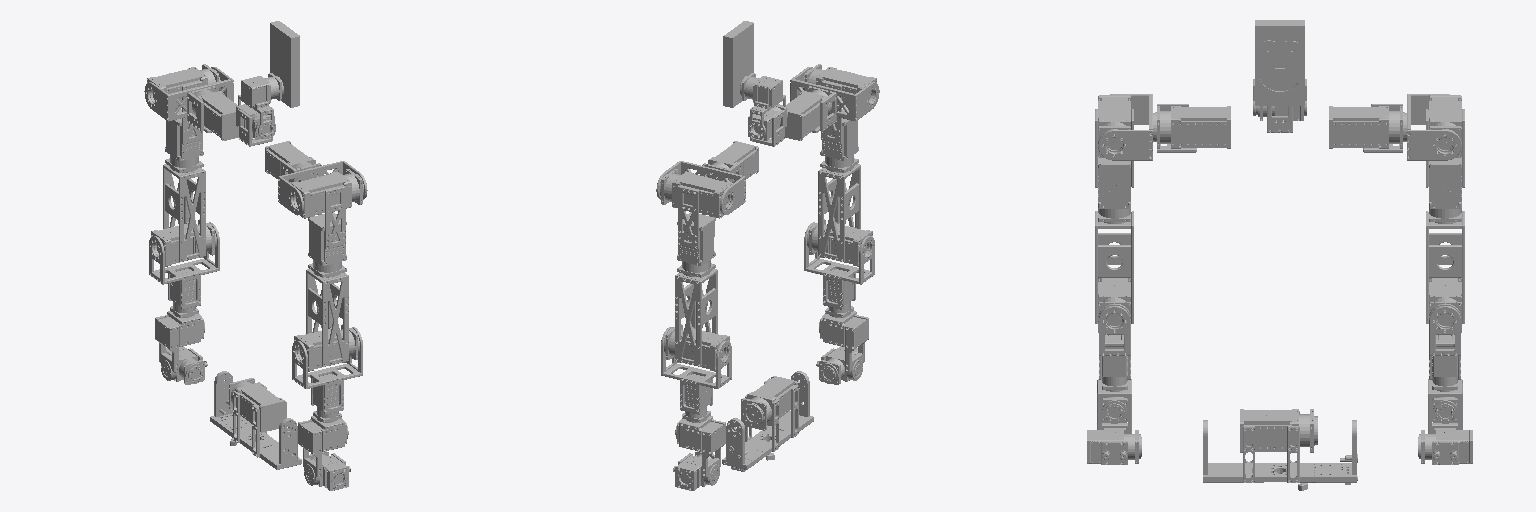
--- Facts derived from the render (not from the file) ---
Views: 3 orthographic renders of the robot side by side, from view 1: azimuth 30°, elevation 25°; view 2: azimuth 150°, elevation 25°; view 3: azimuth 270°, elevation 25°.
Model AVATAR_URDF_Test3 with 22 links and 21 joints (21 revolute), rooted at Base, posed every joint at zero.
Links seen in each view (by area): view 1: Waist_Bottom, R_Shoulder3, R_Upperarm, L_Upperarm, L_Shoulder3, L_Forearm, R_Forearm, L_Shoulder1, Head, L_Wrist1, R_Wrist1, Neck2 (+6 smaller); view 2: Waist_Bottom, L_Shoulder3, L_Upperarm, R_Upperarm, R_Shoulder3, R_Forearm, L_Forearm, Head, R_Shoulder1, R_Wrist1, L_Wrist1, Neck2 (+6 smaller); view 3: Waist_Bottom, Head, R_Shoulder3, L_Shoulder3, R_Upperarm, L_Upperarm, R_Shoulder1, L_Shoulder1, R_Forearm, L_Forearm, R_Shoulder2, L_Shoulder2 (+5 smaller).
Boxes of the visible links, left/top/right/bottom form: Waist_Bottom: left=210, top=371, right=301, bottom=469; R_Shoulder3: left=291, top=169, right=363, bottom=277; R_Upperarm: left=294, top=269, right=359, bottom=371; L_Upperarm: left=151, top=164, right=216, bottom=266; L_Shoulder3: left=147, top=64, right=220, bottom=172; L_Forearm: left=149, top=222, right=219, bottom=317; R_Forearm: left=292, top=327, right=362, bottom=422; L_Shoulder1: left=187, top=86, right=238, bottom=140; Head: left=270, top=21, right=299, bottom=107; L_Wrist1: left=155, top=311, right=204, bottom=380; R_Wrist1: left=298, top=416, right=348, bottom=485; Neck2: left=238, top=73, right=283, bottom=138; Waist_Bottom: left=722, top=371, right=813, bottom=471; L_Shoulder3: left=660, top=169, right=732, bottom=277; L_Upperarm: left=664, top=269, right=729, bottom=371; R_Upperarm: left=807, top=164, right=872, bottom=266; R_Shoulder3: left=803, top=64, right=876, bottom=172; R_Forearm: left=804, top=222, right=874, bottom=317; L_Forearm: left=661, top=327, right=731, bottom=422; Head: left=723, top=21, right=753, bottom=107; R_Shoulder1: left=785, top=86, right=836, bottom=140; R_Wrist1: left=819, top=311, right=868, bottom=380; L_Wrist1: left=675, top=416, right=725, bottom=485; Neck2: left=740, top=73, right=787, bottom=138; Waist_Bottom: left=1203, top=409, right=1357, bottom=490; Head: left=1255, top=20, right=1304, bottom=105; R_Shoulder3: left=1095, top=95, right=1133, bottom=223; L_Shoulder3: left=1426, top=95, right=1464, bottom=223; R_Upperarm: left=1095, top=211, right=1133, bottom=332; L_Upperarm: left=1426, top=211, right=1464, bottom=332; R_Shoulder1: left=1153, top=104, right=1230, bottom=152; L_Shoulder1: left=1329, top=104, right=1406, bottom=152; R_Forearm: left=1099, top=306, right=1130, bottom=391; L_Forearm: left=1429, top=306, right=1460, bottom=391; R_Shoulder2: left=1098, top=94, right=1152, bottom=160; L_Shoulder2: left=1407, top=94, right=1461, bottom=160.
Bounding box of the posed robot: 0.144 × 0.6257 × 0.8506 m (x, y, z).
18 mesh visuals loaded from 22 distinct referenced files (18 binary STL); not drawn: 4 (file found but could not be loaded).

URDF robot description (AVATAR_URDF_Test3):
<?xml version="1.0" encoding="utf-8"?>
<!-- This URDF was automatically created by SolidWorks to URDF Exporter! Originally created by Stephen Brawner ([email redacted]) 
     Commit Version: 1.6.0-4-g7f85cfe  Build Version: 1.6.7995.38578
     For more information, please see http://wiki.ros.org/sw_urdf_exporter -->
<robot
  name="AVATAR_URDF_Test3">
  <link
    name="Base">
    <inertial>
      <origin
        xyz="0.000303243326167879 -0.000242347714140528 0.170803737218352"
        rpy="0 0 0" />
      <mass
        value="4.6034714284956" />
      <inertia
        ixx="0.0290033647219628"
        ixy="1.64284188590394E-07"
        ixz="2.18867887595009E-09"
        iyy="0.0311320594248545"
        iyz="7.20585335229902E-08"
        izz="0.00547620405416547" />
    </inertial>
    <visual>
      <origin
        xyz="0 0 0"
        rpy="0 0 0" />
      <geometry>
        <mesh
          filename="package://dynamixel_control/urdf/meshes/Base.stl" />
      </geometry>
      <material
        name="">
        <color
          rgba="0.752941176470588 0.752941176470588 0.752941176470588 1" />
      </material>
    </visual>
    <collision>
      <origin
        xyz="0 0 0"
        rpy="0 0 0" />
      <geometry>
        <mesh
          filename="package://dynamixel_control/urdf/meshes/Base.stl" />
      </geometry>
    </collision>
  </link>
  <link
    name="Waist_Bottom">
    <inertial>
      <origin
        xyz="-2.42245167183242E-05 -0.00334522502278586 0.311976626423601"
        rpy="0 0 0" />
      <mass
        value="0.531312548786671" />
      <inertia
        ixx="0.00119335950860488"
        ixy="1.58093822860754E-06"
        ixz="8.85274488170103E-09"
        iyy="0.000231775631538982"
        iyz="-1.61190294553858E-07"
        izz="0.00118158666774528" />
    </inertial>
    <visual>
      <origin
        xyz="0 0 0"
        rpy="0 0 0" />
      <geometry>
        <mesh
          filename="package://dynamixel_control/urdf/meshes/Waist_Bottom.stl" />
      </geometry>
      <material
        name="">
        <color
          rgba="0.752941176470588 0.752941176470588 0.752941176470588 1" />
      </material>
    </visual>
    <collision>
      <origin
        xyz="0 0 0"
        rpy="0 0 0" />
      <geometry>
        <mesh
          filename="package://dynamixel_control/urdf/meshes/Waist_Bottom.stl" />
      </geometry>
    </collision>
  </link>
  <joint
    name="joint21"
    type="revolute">
    <origin
      xyz="0 0 0.084"
      rpy="0 0 0" />
    <parent
      link="Base" />
    <child
      link="Waist_Bottom" />
    <axis
      xyz="0 0 1" />
    <limit
      lower="-3.14"
      upper="3.14"
      effort="0"
      velocity="0" />
  </joint>
  <link
    name="Waist_Top">
    <inertial>
      <origin
        xyz="0.00230333871667876 0.0221572223284396 0.198845059858091"
        rpy="0 0 0" />
      <mass
        value="4.3469015612453" />
      <inertia
        ixx="0.0314705322393854"
        ixy="-9.24811297745712E-09"
        ixz="1.19346285971661E-07"
        iyy="0.0174127352748354"
        iyz="-1.32200547208725E-05"
        izz="0.0180955754507868" />
    </inertial>
    <visual>
      <origin
        xyz="0 0 0"
        rpy="0 0 0" />
      <geometry>
        <mesh
          filename="package://dynamixel_control/urdf/meshes/Waist_Top.stl" />
      </geometry>
      <material
        name="">
        <color
          rgba="0.752941176470588 0.752941176470588 0.752941176470588 1" />
      </material>
    </visual>
    <collision>
      <origin
        xyz="0 0 0"
        rpy="0 0 0" />
      <geometry>
        <mesh
          filename="package://dynamixel_control/urdf/meshes/Waist_Top.stl" />
      </geometry>
    </collision>
  </link>
  <joint
    name="joint20"
    type="revolute">
    <origin
      xyz="0 0 0.334"
      rpy="0 0 0" />
    <parent
      link="Waist_Bottom" />
    <child
      link="Waist_Top" />
    <axis
      xyz="0 1 0" />
    <limit
      lower="-3.14"
      upper="3.14"
      effort="0"
      velocity="0" />
  </joint>
  <link
    name="Neck1">
    <inertial>
      <origin
        xyz="-2.30302027032225E-08 0.00281444186931717 0.0317914438373298"
        rpy="0 0 0" />
      <mass
        value="0.206569749668231" />
      <inertia
        ixx="9.50254900314168E-05"
        ixy="1.34717106493204E-11"
        ixz="3.87620840061872E-13"
        iyy="5.8528856103503E-05"
        iyz="2.59110871376959E-08"
        izz="8.23348577959084E-05" />
    </inertial>
    <visual>
      <origin
        xyz="0 0 0"
        rpy="0 0 0" />
      <geometry>
        <mesh
          filename="package://dynamixel_control/urdf/meshes/Neck1.stl" />
      </geometry>
      <material
        name="">
        <color
          rgba="0.752941176470588 0.752941176470588 0.752941176470588 1" />
      </material>
    </visual>
    <collision>
      <origin
        xyz="0 0 0"
        rpy="0 0 0" />
      <geometry>
        <mesh
          filename="package://dynamixel_control/urdf/meshes/Neck1.stl" />
      </geometry>
    </collision>
  </link>
  <joint
    name="joint17"
    type="revolute">
    <origin
      xyz="0 0.00014877 0.545"
      rpy="0 0 0" />
    <parent
      link="Waist_Top" />
    <child
      link="Neck1" />
    <axis
      xyz="0 0 1" />
    <limit
      lower="-3.14"
      upper="3.14"
      effort="0"
      velocity="0" />
  </joint>
  <link
    name="Neck2">
    <inertial>
      <origin
        xyz="0.00854491891680327 -2.3637120039055E-11 0.0492566356192752"
        rpy="0 0 0" />
      <mass
        value="0.16912696282762" />
      <inertia
        ixx="5.39909683894887E-05"
        ixy="6.5501864447379E-15"
        ixz="-2.59110802879995E-08"
        iyy="7.47516175505277E-05"
        iyz="3.55325838391412E-13"
        izz="8.22454172445823E-05" />
    </inertial>
    <visual>
      <origin
        xyz="0 0 0"
        rpy="0 0 0" />
      <geometry>
        <mesh
          filename="package://dynamixel_control/urdf/meshes/Neck2.stl" />
      </geometry>
      <material
        name="">
        <color
          rgba="0.752941176470588 0.752941176470588 0.752941176470588 1" />
      </material>
    </visual>
    <collision>
      <origin
        xyz="0 0 0"
        rpy="0 0 0" />
      <geometry>
        <mesh
          filename="package://dynamixel_control/urdf/meshes/Neck2.stl" />
      </geometry>
    </collision>
  </link>
  <joint
    name="joint18"
    type="revolute">
    <origin
      xyz="0 0 0.0385"
      rpy="0 0 0" />
    <parent
      link="Neck1" />
    <child
      link="Neck2" />
    <axis
      xyz="0 -1 0" />
    <limit
      lower="-3.14"
      upper="3.14"
      effort="0"
      velocity="0" />
  </joint>
  <link
    name="Head">
    <inertial>
      <origin
        xyz="0.011868632180432 -1.73841443054656E-06 0.0420062370189285"
        rpy="0 0 0" />
      <mass
        value="0.228692319590113" />
      <inertia
        ixx="0.000519416418262081"
        ixy="3.6302851140037E-09"
        ixz="-3.88931145120359E-07"
        iyy="0.000404644663196271"
        iyz="1.74154474795361E-08"
        izz="0.00012987386650223" />
    </inertial>
    <visual>
      <origin
        xyz="0 0 0"
        rpy="0 0 0" />
      <geometry>
        <mesh
          filename="package://dynamixel_control/urdf/meshes/Head.stl" />
      </geometry>
      <material
        name="">
        <color
          rgba="0.752941176470588 0.752941176470588 0.752941176470588 1" />
      </material>
    </visual>
    <collision>
      <origin
        xyz="0 0 0"
        rpy="0 0 0" />
      <geometry>
        <mesh
          filename="package://dynamixel_control/urdf/meshes/Head.stl" />
      </geometry>
    </collision>
  </link>
  <joint
    name="joint19"
    type="revolute">
    <origin
      xyz="0.051 0 0.061"
      rpy="0 0 0" />
    <parent
      link="Neck2" />
    <child
      link="Head" />
    <axis
      xyz="1 0 0" />
    <limit
      lower="-3.14"
      upper="3.14"
      effort="0"
      velocity="0" />
  </joint>
  <link
    name="R_Shoulder1">
    <inertial>
      <origin
        xyz="-0.00252075965447164 0.0121593639745771 0.0296786139966227"
        rpy="0 0 0" />
      <mass
        value="0.410805392974447" />
      <inertia
        ixx="0.000530690638124942"
        ixy="7.61706374690236E-08"
        ixz="1.76993271148482E-08"
        iyy="0.000173389320055398"
        iyz="-2.0508354153909E-07"
        izz="0.000530075178211183" />
    </inertial>
    <visual>
      <origin
        xyz="0 0 0"
        rpy="0 0 0" />
      <geometry>
        <mesh
          filename="package://dynamixel_control/urdf/meshes/R_Shoulder1.stl" />
      </geometry>
      <material
        name="">
        <color
          rgba="0.752941176470588 0.752941176470588 0.752941176470588 1" />
      </material>
    </visual>
    <collision>
      <origin
        xyz="0 0 0"
        rpy="0 0 0" />
      <geometry>
        <mesh
          filename="package://dynamixel_control/urdf/meshes/R_Shoulder1.stl" />
      </geometry>
    </collision>
  </link>
  <joint
    name="joint1"
    type="revolute">
    <origin
      xyz="0 -0.15785 0.51"
      rpy="0 0 0" />
    <parent
      link="Waist_Top" />
    <child
      link="R_Shoulder1" />
    <axis
      xyz="0 0 1" />
    <limit
      lower="-3.14"
      upper="3.14"
      effort="0"
      velocity="0" />
  </joint>
  <link
    name="R_Shoulder2">
    <inertial>
      <origin
        xyz="-6.10622663543836E-16 -0.0222059958829576 2.77555756156289E-17"
        rpy="0 0 0" />
      <mass
        value="0.182373702997158" />
      <inertia
        ixx="0.000109130549741493"
        ixy="-4.63541160383502E-21"
        ixz="2.30846585098975E-10"
        iyy="0.000178289560188981"
        iyz="-1.85867664463217E-20"
        izz="0.00018625573726423" />
    </inertial>
    <visual>
      <origin
        xyz="0 0 0"
        rpy="0 0 0" />
      <geometry>
        <mesh
          filename="package://dynamixel_control/urdf/meshes/R_Shoulder2.stl" />
      </geometry>
      <material
        name="">
        <color
          rgba="0.752941176470588 0.752941176470588 0.752941176470588 1" />
      </material>
    </visual>
    <collision>
      <origin
        xyz="0 0 0"
        rpy="0 0 0" />
      <geometry>
        <mesh
          filename="package://dynamixel_control/urdf/meshes/R_Shoulder2.stl" />
      </geometry>
    </collision>
  </link>
  <joint
    name="joint2"
    type="revolute">
    <origin
      xyz="0 -0.047995 0.033"
      rpy="0 0 0" />
    <parent
      link="R_Shoulder1" />
    <child
      link="R_Shoulder2" />
    <axis
      xyz="0 -1 0" />
    <limit
      lower="-3.14"
      upper="3.14"
      effort="0"
      velocity="0" />
  </joint>
  <link
    name="R_Shoulder3">
    <inertial>
      <origin
        xyz="-0.000803688860219268 4.46847804119743E-06 -0.0470056363073573"
        rpy="0 0 0" />
      <mass
        value="0.731280740842248" />
      <inertia
        ixx="0.000603982320899008"
        ixy="5.20431167910932E-09"
        ixz="-3.18492330639882E-07"
        iyy="0.000965249594039117"
        iyz="4.59547965705601E-09"
        izz="0.000640174610782945" />
    </inertial>
    <visual>
      <origin
        xyz="0 0 0"
        rpy="0 0 0" />
      <geometry>
        <mesh
          filename="package://dynamixel_control/urdf/meshes/R_Shoulder3.stl" />
      </geometry>
      <material
        name="">
        <color
          rgba="0.752941176470588 0.752941176470588 0.752941176470588 1" />
      </material>
    </visual>
    <collision>
      <origin
        xyz="0 0 0"
        rpy="0 0 0" />
      <geometry>
        <mesh
          filename="package://dynamixel_control/urdf/meshes/R_Shoulder3.stl" />
      </geometry>
    </collision>
  </link>
  <joint
    name="joint3"
    type="revolute">
    <origin
      xyz="0 -0.062005 0"
      rpy="0 0 0" />
    <parent
      link="R_Shoulder2" />
    <child
      link="R_Shoulder3" />
    <axis
      xyz="-1 0 0" />
    <limit
      lower="-3.14"
      upper="3.14"
      effort="0"
      velocity="0" />
  </joint>
  <link
    name="R_Upperarm">
    <inertial>
      <origin
        xyz="-2.54857385195706E-11 -0.000679843103449984 -0.113884552409043"
        rpy="0 0 0" />
      <mass
        value="0.580136792741574" />
      <inertia
        ixx="0.000889538746951816"
        ixy="-6.21276551871808E-12"
        ixz="3.84754853200853E-13"
        iyy="0.000655419499386114"
        iyz="-4.8641178942802E-08"
        izz="0.000431186138600684" />
    </inertial>
    <visual>
      <origin
        xyz="0 0 0"
        rpy="0 0 0" />
      <geometry>
        <mesh
          filename="package://dynamixel_control/urdf/meshes/R_Upperarm.stl" />
      </geometry>
      <material
        name="">
        <color
          rgba="0.752941176470588 0.752941176470588 0.752941176470588 1" />
      </material>
    </visual>
    <collision>
      <origin
        xyz="0 0 0"
        rpy="0 0 0" />
      <geometry>
        <mesh
          filename="package://dynamixel_control/urdf/meshes/R_Upperarm.stl" />
      </geometry>
    </collision>
  </link>
  <joint
    name="joint4"
    type="revolute">
    <origin
      xyz="0 0 -0.163"
      rpy="0 0 1.57" />
    <parent
      link="R_Shoulder3" />
    <child
      link="R_Upperarm" />
    <axis
      xyz="0 0 -1" />
    <limit
      lower="-3.14"
      upper="3.14"
      effort="0"
      velocity="0" />
  </joint>
  <link
    name="R_Forearm">
    <inertial>
      <origin
        xyz="2.37730210517206E-10 -8.45642979990791E-06 -0.0868969688774723"
        rpy="0 0 0" />
      <mass
        value="0.523376663655262" />
      <inertia
        ixx="0.000391242591357743"
        ixy="6.23870499052244E-12"
        ixz="9.41918960385042E-13"
        iyy="0.000350534331969182"
        iyz="5.8072695135785E-08"
        izz="0.000208506912802897" />
    </inertial>
    <visual>
      <origin
        xyz="0 0 0"
        rpy="0 0 0" />
      <geometry>
        <mesh
          filename="package://dynamixel_control/urdf/meshes/R_Forearm.stl" />
      </geometry>
      <material
        name="">
        <color
          rgba="0.752941176470588 0.752941176470588 0.752941176470588 1" />
      </material>
    </visual>
    <collision>
      <origin
        xyz="0 0 0"
        rpy="0 0 0" />
      <geometry>
        <mesh
          filename="package://dynamixel_control/urdf/meshes/R_Forearm.stl" />
      </geometry>
    </collision>
  </link>
  <joint
    name="joint5"
    type="revolute">
    <origin
      xyz="0 0 -0.155"
      rpy="0 0 0" />
    <parent
      link="R_Upperarm" />
    <child
      link="R_Forearm" />
    <axis
      xyz="0 -1 0" />
    <limit
      lower="-3.14"
      upper="3.14"
      effort="0"
      velocity="0" />
  </joint>
  <link
    name="R_Wrist1">
    <inertial>
      <origin
        xyz="1.345126912633E-09 0.01122592939157 -0.03307940040027"
        rpy="0 0 0" />
      <mass
        value="0.555405184095184" />
      <inertia
        ixx="0.000326336042461568"
        ixy="7.91127751655736E-13"
        ixz="-3.43756291852213E-12"
        iyy="0.000163409853946009"
        iyz="-2.02057400386373E-06"
        izz="0.000281591850327162" />
    </inertial>
    <visual>
      <origin
        xyz="0 0 0"
        rpy="0 0 0" />
      <geometry>
        <mesh
          filename="package://dynamixel_control/urdf/meshes/R_Wrist1.stl" />
      </geometry>
      <material
        name="">
        <color
          rgba="0.752941176470588 0.752941176470588 0.752941176470588 1" />
      </material>
    </visual>
    <collision>
      <origin
        xyz="0 0 0"
        rpy="0 0 0" />
      <geometry>
        <mesh
          filename="package://dynamixel_control/urdf/meshes/R_Wrist1.stl" />
      </geometry>
    </collision>
  </link>
  <joint
    name="joint6"
    type="revolute">
    <origin
      xyz="0 0 -0.148"
      rpy="0 0 0" />
    <parent
      link="R_Forearm" />
    <child
      link="R_Wrist1" />
    <axis
      xyz="0 0 -1" />
    <limit
      lower="-3.14"
      upper="3.14"
      effort="0"
      velocity="0" />
  </joint>
  <link
    name="R_Wrist2">
    <inertial>
      <origin
        xyz="-0.00119322980257797 0.000860937985712074 -9.48286903401652E-06"
        rpy="0 0 0" />
      <mass
        value="0.466729684502222" />
      <inertia
        ixx="0.000113472843914248"
        ixy="1.3962784021659E-11"
        ixz="-5.72958849987533E-08"
        iyy="0.000270164186143069"
        iyz="-1.9742367504101E-13"
        izz="0.000261912601367446" />
    </inertial>
    <visual>
      <origin
        xyz="0 0 0"
        rpy="0 0 0" />
      <geometry>
        <mesh
          filename="package://dynamixel_control/urdf/meshes/R_Wrist2.stl" />
      </geometry>
      <material
        name="">
        <color
          rgba="0.752941176470588 0.752941176470588 0.752941176470588 1" />
      </material>
    </visual>
    <collision>
      <origin
        xyz="0 0 0"
        rpy="0 0 0" />
      <geometry>
        <mesh
          filename="package://dynamixel_control/urdf/meshes/R_Wrist2.stl" />
      </geometry>
    </collision>
  </link>
  <joint
    name="joint7"
    type="revolute">
    <origin
      xyz="0 0 -0.1055"
      rpy="0 0 0" />
    <parent
      link="R_Wrist1" />
    <child
      link="R_Wrist2" />
    <axis
      xyz="0 -1 0" />
    <limit
      lower="-3.14"
      upper="3.14"
      effort="0"
      velocity="0" />
  </joint>
  <link
    name="R_Wrist3">
    <inertial>
      <origin
        xyz="0.00150904925021786 0.00343555190006029 -0.106634948939387"
        rpy="0 0 0" />
      <mass
        value="0.408588774804358" />
      <inertia
        ixx="0.00055571358233878"
        ixy="-4.05452481802536E-05"
        ixz="-6.40728794136174E-06"
        iyy="0.00061200625448681"
        iyz="-1.81696539432522E-06"
        izz="0.00030061553786221" />
    </inertial>
    <visual>
      <origin
        xyz="0 0 0"
        rpy="0 0 0" />
      <geometry>
        <mesh
          filename="package://dynamixel_control/urdf/meshes/R_Wrist3.stl" />
      </geometry>
      <material
        name="">
        <color
          rgba="0.752941176470588 0.752941176470588 0.752941176470588 1" />
      </material>
    </visual>
    <collision>
      <origin
        xyz="0 0 0"
        rpy="0 0 0" />
      <geometry>
        <mesh
          filename="package://dynamixel_control/urdf/meshes/R_Wrist3.stl" />
      </geometry>
    </collision>
  </link>
  <joint
    name="joint8"
    type="revolute">
    <origin
      xyz="0 0 0"
      rpy="0 0 0" />
    <parent
      link="R_Wrist2" />
    <child
      link="R_Wrist3" />
    <axis
      xyz="-1 0 0" />
    <limit
      lower="-3.14"
      upper="3.14"
      effort="0"
      velocity="0" />
  </joint>
  <link
    name="L_Shoulder1">
    <inertial>
      <origin
        xyz="-0.00252075965447164 -0.0121593639745771 0.0296786139966227"
        rpy="0 0 0" />
      <mass
        value="0.410805392974447" />
      <inertia
        ixx="0.000530690638124942"
        ixy="7.61706374690236E-08"
        ixz="1.76993271148482E-08"
        iyy="0.000173389320055398"
        iyz="-2.0508354153909E-07"
        izz="0.000530075178211183" />
    </inertial>
    <visual>
      <origin
        xyz="0 0 0"
        rpy="0 0 0" />
      <geometry>
        <mesh
          filename="package://dynamixel_control/urdf/meshes/L_Shoulder1.stl" />
      </geometry>
      <material
        name="">
        <color
          rgba="0.752941176470588 0.752941176470588 0.752941176470588 1" />
      </material>
    </visual>
    <collision>
      <origin
        xyz="0 0 0"
        rpy="0 0 0" />
      <geometry>
        <mesh
          filename="package://dynamixel_control/urdf/meshes/L_Shoulder1.stl" />
      </geometry>
    </collision>
  </link>
  <joint
    name="joint9"
    type="revolute">
    <origin
      xyz="0 0.15785 0.51"
      rpy="0 0 0" />
    <parent
      link="Waist_Top" />
    <child
      link="L_Shoulder1" />
    <axis
      xyz="0 0 1" />
    <limit
      lower="-3.14"
      upper="3.14"
      effort="0"
      velocity="0" />
  </joint>
  <link
    name="L_Shoulder2">
    <inertial>
      <origin
        xyz="-6.10622663543836E-16 0.0222059958829576 2.77555756156289E-17"
        rpy="0 0 0" />
      <mass
        value="0.182373702997158" />
      <inertia
        ixx="0.000109130549741493"
        ixy="-4.63541160383502E-21"
        ixz="2.30846585098975E-10"
        iyy="0.000178289560188981"
        iyz="-1.85867664463217E-20"
        izz="0.00018625573726423" />
    </inertial>
    <visual>
      <origin
        xyz="0 0 0"
        rpy="0 0 0" />
      <geometry>
        <mesh
          filename="package://dynamixel_control/urdf/meshes/L_Shoulder2.stl" />
      </geometry>
      <material
        name="">
        <color
          rgba="0.752941176470588 0.752941176470588 0.752941176470588 1" />
      </material>
    </visual>
    <collision>
      <origin
        xyz="0 0 0"
        rpy="0 0 0" />
      <geometry>
        <mesh
          filename="package://dynamixel_control/urdf/meshes/L_Shoulder2.stl" />
      </geometry>
    </collision>
  </link>
  <joint
    name="joint10"
    type="revolute">
    <origin
      xyz="0 0.047995 0.033"
      rpy="0 0 0" />
    <parent
      link="L_Shoulder1" />
    <child
      link="L_Shoulder2" />
    <axis
      xyz="0 1 0" />
    <limit
      lower="-3.14"
      upper="3.14"
      effort="0"
      velocity="0" />
  </joint>
  <link
    name="L_Shoulder3">
    <inertial>
      <origin
        xyz="-0.000803688860219268 -4.46847804119743E-06 -0.0470056363073573"
        rpy="0 0 0" />
      <mass
        value="0.731280740842248" />
      <inertia
        ixx="0.000603982320899008"
        ixy="5.20431167910932E-09"
        ixz="-3.18492330639882E-07"
        iyy="0.000965249594039117"
        iyz="4.59547965705601E-09"
        izz="0.000640174610782945" />
    </inertial>
    <visual>
      <origin
        xyz="0 0 0"
        rpy="0 0 0" />
      <geometry>
        <mesh
          filename="package://dynamixel_control/urdf/meshes/L_Shoulder3.stl" />
      </geometry>
      <material
        name="">
        <color
          rgba="0.752941176470588 0.752941176470588 0.752941176470588 1" />
      </material>
    </visual>
    <collision>
      <origin
        xyz="0 0 0"
        rpy="0 0 0" />
      <geometry>
        <mesh
          filename="package://dynamixel_control/urdf/meshes/L_Shoulder3.stl" />
      </geometry>
    </collision>
  </link>
  <joint
    name="joint11"
    type="revolute">
    <origin
      xyz="0 0.062005 0"
      rpy="0 0 0" />
    <parent
      link="L_Shoulder2" />
    <child
      link="L_Shoulder3" />
    <axis
      xyz="-1 0 0" />
    <limit
      lower="-3.14"
      upper="3.14"
      effort="0"
      velocity="0" />
  </joint>
  <link
    name="L_Upperarm">
    <inertial>
      <origin
        xyz="-2.54857385195706E-11 0.000679843103449984 -0.113884552409043"
        rpy="0 0 0" />
      <mass
        value="0.580136792741574" />
      <inertia
        ixx="0.000889538746951816"
        ixy="-6.21276551871808E-12"
        ixz="3.84754853200853E-13"
        iyy="0.000655419499386114"
        iyz="-4.8641178942802E-08"
        izz="0.000431186138600684" />
    </inertial>
    <visual>
      <origin
        xyz="0 0 0"
        rpy="0 0 0" />
      <geometry>
        <mesh
          filename="package://dynamixel_control/urdf/meshes/L_Upperarm.stl" />
      </geometry>
      <material
        name="">
        <color
          rgba="0.752941176470588 0.752941176470588 0.752941176470588 1" />
      </material>
    </visual>
    <collision>
      <origin
        xyz="0 0 0"
        rpy="0 0 0" />
      <geometry>
        <mesh
          filename="package://dynamixel_control/urdf/meshes/L_Upperarm.stl" />
      </geometry>
    </collision>
  </link>
  <joint
    name="joint12"
    type="revolute">
    <origin
      xyz="0 0 -0.163"
      rpy="0 0 -1.57" />
    <parent
      link="L_Shoulder3" />
    <child
      link="L_Upperarm" />
    <axis
      xyz="0 0 -1" />
    <limit
      lower="-3.14"
      upper="3.14"
      effort="0"
      velocity="0" />
  </joint>
  <link
    name="L_Forearm">
    <inertial>
      <origin
        xyz="2.37730210517206E-10 8.45642979990791E-06 -0.0868969688774723"
        rpy="0 0 0" />
      <mass
        value="0.523376663655262" />
      <inertia
        ixx="0.000391242591357743"
        ixy="6.23870499052244E-12"
        ixz="9.41918960385042E-13"
        iyy="0.000350534331969182"
        iyz="5.8072695135785E-08"
        izz="0.000208506912802897" />
    </inertial>
    <visual>
      <origin
        xyz="0 0 0"
        rpy="0 0 0" />
      <geometry>
        <mesh
          filename="package://dynamixel_control/urdf/meshes/L_Forearm.stl" />
      </geometry>
      <material
        name="">
        <color
          rgba="0.752941176470588 0.752941176470588 0.752941176470588 1" />
      </material>
    </visual>
    <collision>
      <origin
        xyz="0 0 0"
        rpy="0 0 0" />
      <geometry>
        <mesh
          filename="package://dynamixel_control/urdf/meshes/L_Forearm.stl" />
      </geometry>
    </collision>
  </link>
  <joint
    name="joint13"
    type="revolute">
    <origin
      xyz="0 0 -0.155"
      rpy="0 0 0" />
    <parent
      link="L_Upperarm" />
    <child
      link="L_Forearm" />
    <axis
      xyz="0 1 0" />
    <limit
      lower="-3.14"
      upper="3.14"
      effort="0"
      velocity="0" />
  </joint>
  <link
    name="L_Wrist1">
    <inertial>
      <origin
        xyz="1.345126912633E-09 -0.01122592939157 -0.03307940040027"
        rpy="0 0 0" />
      <mass
        value="0.555405184095184" />
      <inertia
        ixx="0.000326336042461568"
        ixy="7.91127751655736E-13"
        ixz="-3.43756291852213E-12"
        iyy="0.000163409853946009"
        iyz="-2.02057400386373E-06"
        izz="0.000281591850327162" />
    </inertial>
    <visual>
      <origin
        xyz="0 0 0"
        rpy="0 0 0" />
      <geometry>
        <mesh
          filename="package://dynamixel_control/urdf/meshes/L_Wrist1.stl" />
      </geometry>
      <material
        name="">
        <color
          rgba="0.752941176470588 0.752941176470588 0.752941176470588 1" />
      </material>
    </visual>
    <collision>
      <origin
        xyz="0 0 0"
        rpy="0 0 0" />
      <geometry>
        <mesh
          filename="package://dynamixel_control/urdf/meshes/L_Wrist1.stl" />
      </geometry>
    </collision>
  </link>
  <joint
    name="joint14"
    type="revolute">
    <origin
      xyz="0 0 -0.148"
      rpy="0 0 0" />
    <parent
      link="L_Forearm" />
    <child
      link="L_Wrist1" />
    <axis
      xyz="0 0 -1" />
    <limit
      lower="-3.14"
      upper="3.14"
      effort="0"
      velocity="0" />
  </joint>
  <link
    name="L_Wrist2">
    <inertial>
      <origin
        xyz="-0.00119322980257797 -0.000860937985712074 -9.48286903401652E-06"
        rpy="0 0 0" />
      <mass
        value="0.466729684502222" />
      <inertia
        ixx="0.000113472843914248"
        ixy="1.3962784021659E-11"
        ixz="-5.72958849987533E-08"
        iyy="0.000270164186143069"
        iyz="-1.9742367504101E-13"
        izz="0.000261912601367446" />
    </inertial>
    <visual>
      <origin
        xyz="0 0 0"
        rpy="0 0 0" />
      <geometry>
        <mesh
          filename="package://dynamixel_control/urdf/meshes/L_Wrist2.stl" />
      </geometry>
      <material
        name="">
        <color
          rgba="0.752941176470588 0.752941176470588 0.752941176470588 1" />
      </material>
    </visual>
    <collision>
      <origin
        xyz="0 0 0"
        rpy="0 0 0" />
      <geometry>
        <mesh
          filename="package://dynamixel_control/urdf/meshes/L_Wrist2.stl" />
      </geometry>
    </collision>
  </link>
  <joint
    name="joint15"
    type="revolute">
    <origin
      xyz="0 0 -0.1055"
      rpy="0 0 0" />
    <parent
      link="L_Wrist1" />
    <child
      link="L_Wrist2" />
    <axis
      xyz="0 1 0" />
    <limit
      lower="-3.14"
      upper="3.14"
      effort="0"
      velocity="0" />
  </joint>
  <link
    name="L_Wrist3">
    <inertial>
      <origin
        xyz="0.00150904925021786 -0.00343555190006029 -0.106634948939387"
        rpy="0 0 0" />
      <mass
        value="0.408588774804358" />
      <inertia
        ixx="0.00055571358233878"
        ixy="-4.05452481802536E-05"
        ixz="-6.40728794136174E-06"
        iyy="0.00061200625448681"
        iyz="-1.81696539432522E-06"
        izz="0.00030061553786221" />
    </inertial>
    <visual>
      <origin
        xyz="0 0 0"
        rpy="0 0 0" />
      <geometry>
        <mesh
          filename="package://dynamixel_control/urdf/meshes/L_Wrist3.stl" />
      </geometry>
      <material
        name="">
        <color
          rgba="0.752941176470588 0.752941176470588 0.752941176470588 1" />
      </material>
    </visual>
    <collision>
      <origin
        xyz="0 0 0"
        rpy="0 0 0" />
      <geometry>
        <mesh
          filename="package://dynamixel_control/urdf/meshes/L_Wrist3.stl" />
      </geometry>
    </collision>
  </link>
  <joint
    name="joint16"
    type="revolute">
    <origin
      xyz="0 0 0"
      rpy="0 0 0" />
    <parent
      link="L_Wrist2" />
    <child
      link="L_Wrist3" />
    <axis
      xyz="1 0 0" />
    <limit
      lower="-3.14"
      upper="3.14"
      effort="0"
      velocity="0" />
  </joint>
</robot>
